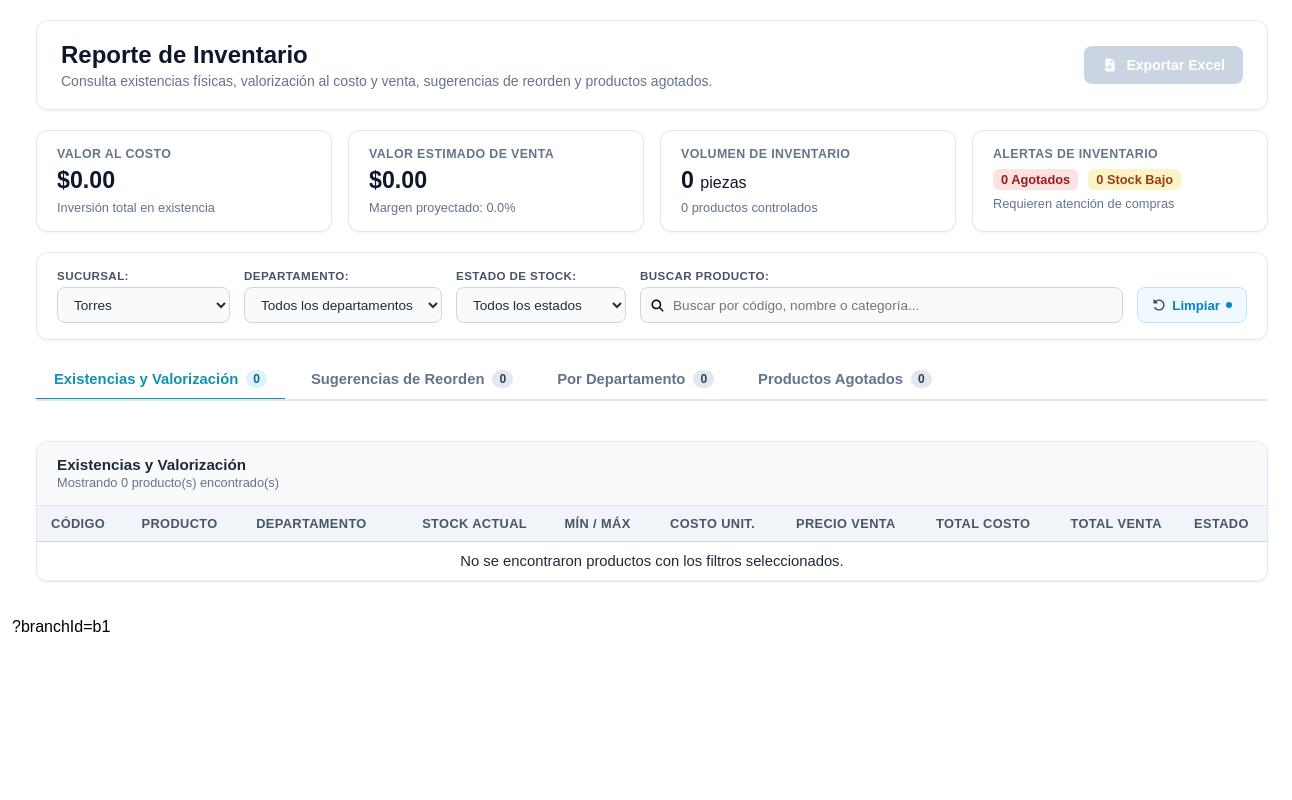
PageInventoryReport selector de sucursal › regresa a todas las sucursales y limpia la url al limpiar filtros
Click the button "Limpiar". click: (1192,305)
box: x1=1137 y1=287 x2=1247 y2=323
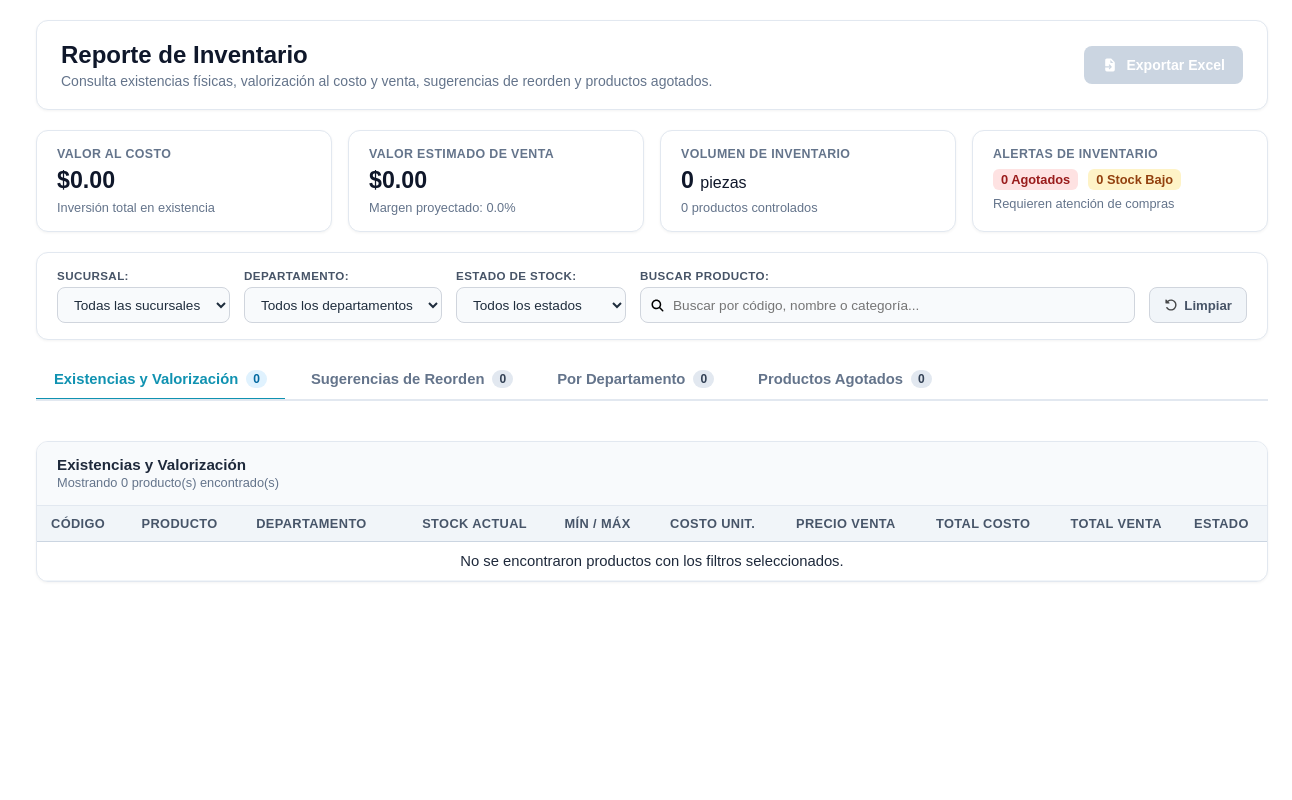
Expected: the dropdown below "Sucursal:" shows "Todas las sucursales", x1=57 y1=287 x2=230 y2=323
